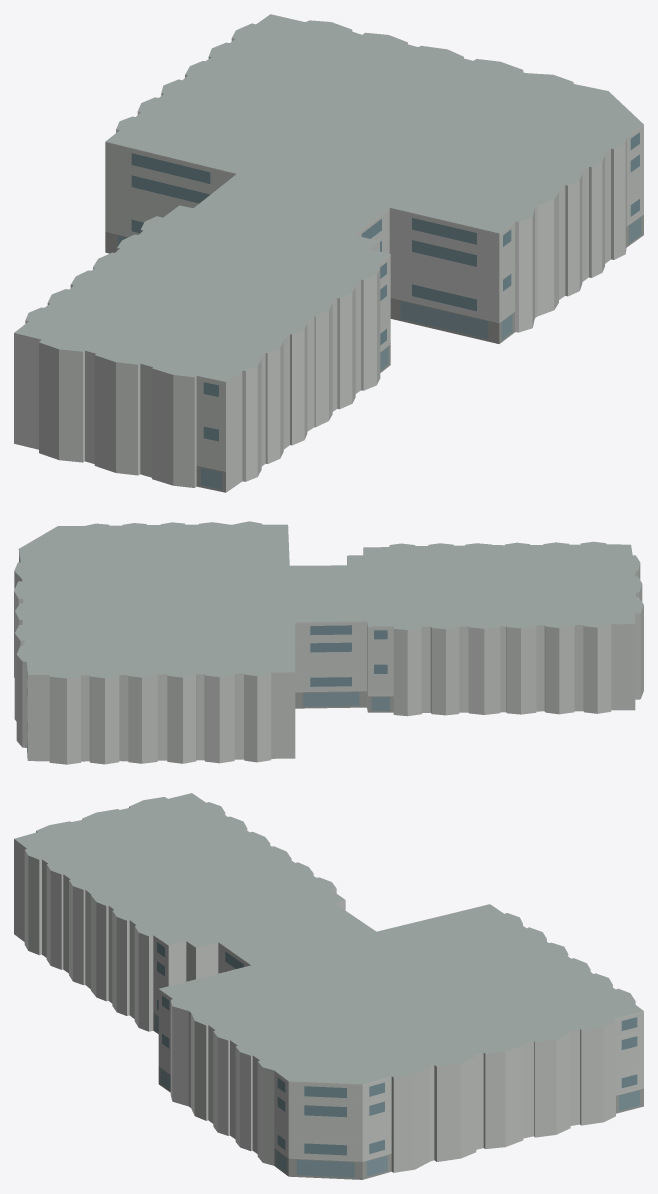
The model's file is survey-upis-32996028.glb.
3 renders of one model, top to bottom at view 1: azimuth 30°, elevation 25°; view 2: azimuth 150°, elevation 25°; view 3: azimuth 270°, elevation 25°, orthographic. The views are drawn at different scales.
Visible parts, largest first — view 1: survey-upis-32996028.tmp; view 2: survey-upis-32996028.tmp; view 3: survey-upis-32996028.tmp.
Part boxes in pixels (x1,y1,x2,y2): survey-upis-32996028.tmp: (14,14,643,492); survey-upis-32996028.tmp: (14,521,643,764); survey-upis-32996028.tmp: (14,793,643,1179).
Size of the model in its own units: 99.92 by 15.25 by 91.25.
